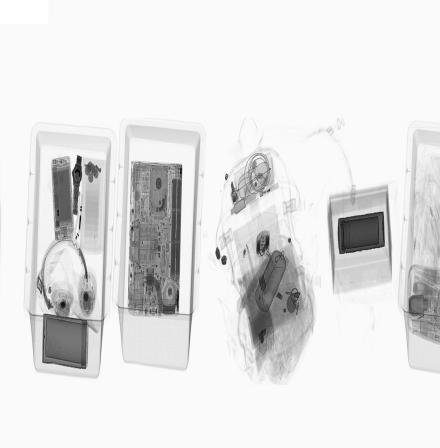Lighter: (259, 181, 280, 202)
